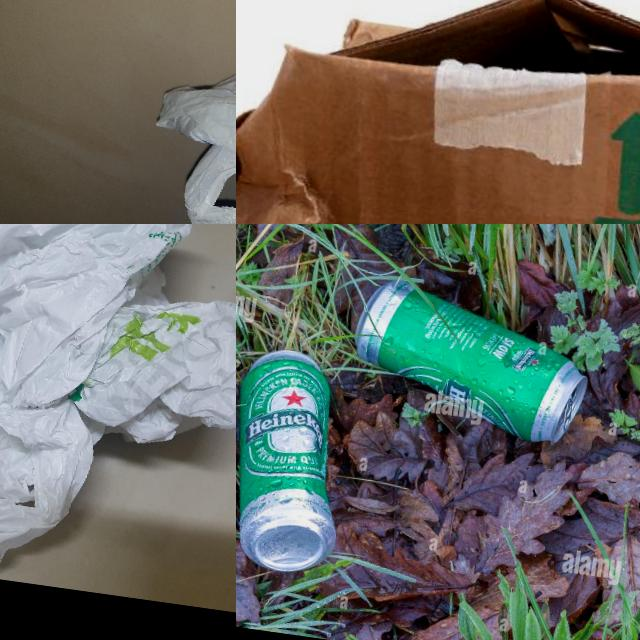lata: (343, 276, 599, 449), (236, 345, 363, 579)
papelão: (236, 0, 640, 224)
sacola plástica: (0, 224, 236, 612), (133, 42, 236, 224)
